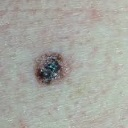Melanoma: (33, 52, 68, 84)
